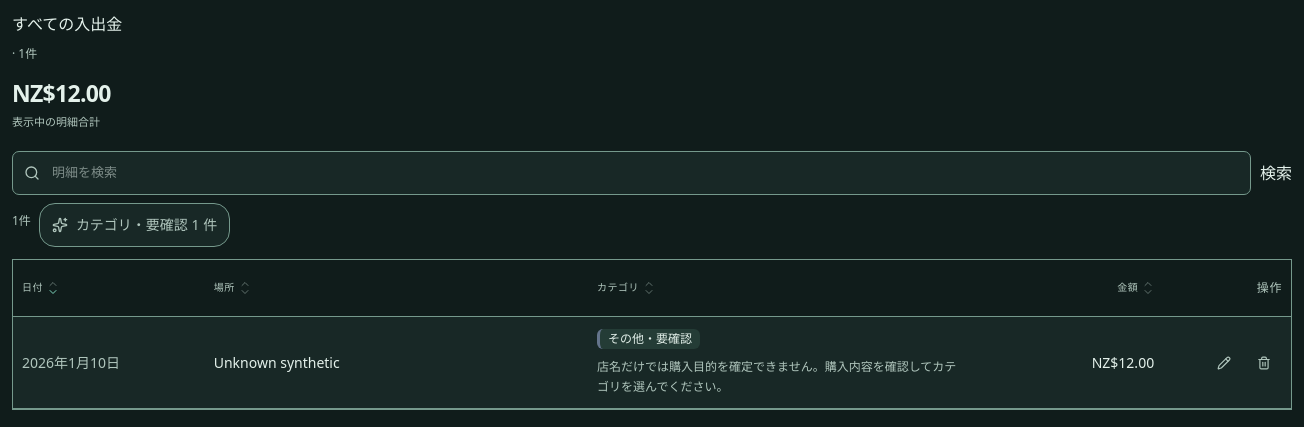
Test: renders accessible queue-empty and unknown guidance in ja
The width and height of the screenshot is (1304, 427).
Click the button "カテゴリ・要確認 1 件": (135, 225) x1=39 y1=203 x2=230 y2=247
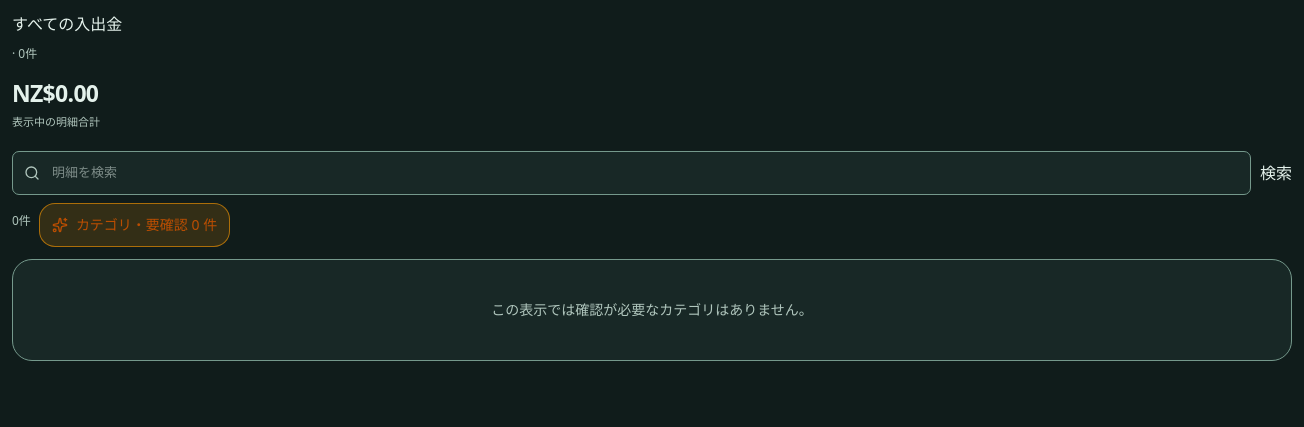
Now the text "この表示では確認が必要なカテゴリはありません。" is shown, box x1=491 y1=300 x2=813 y2=319
